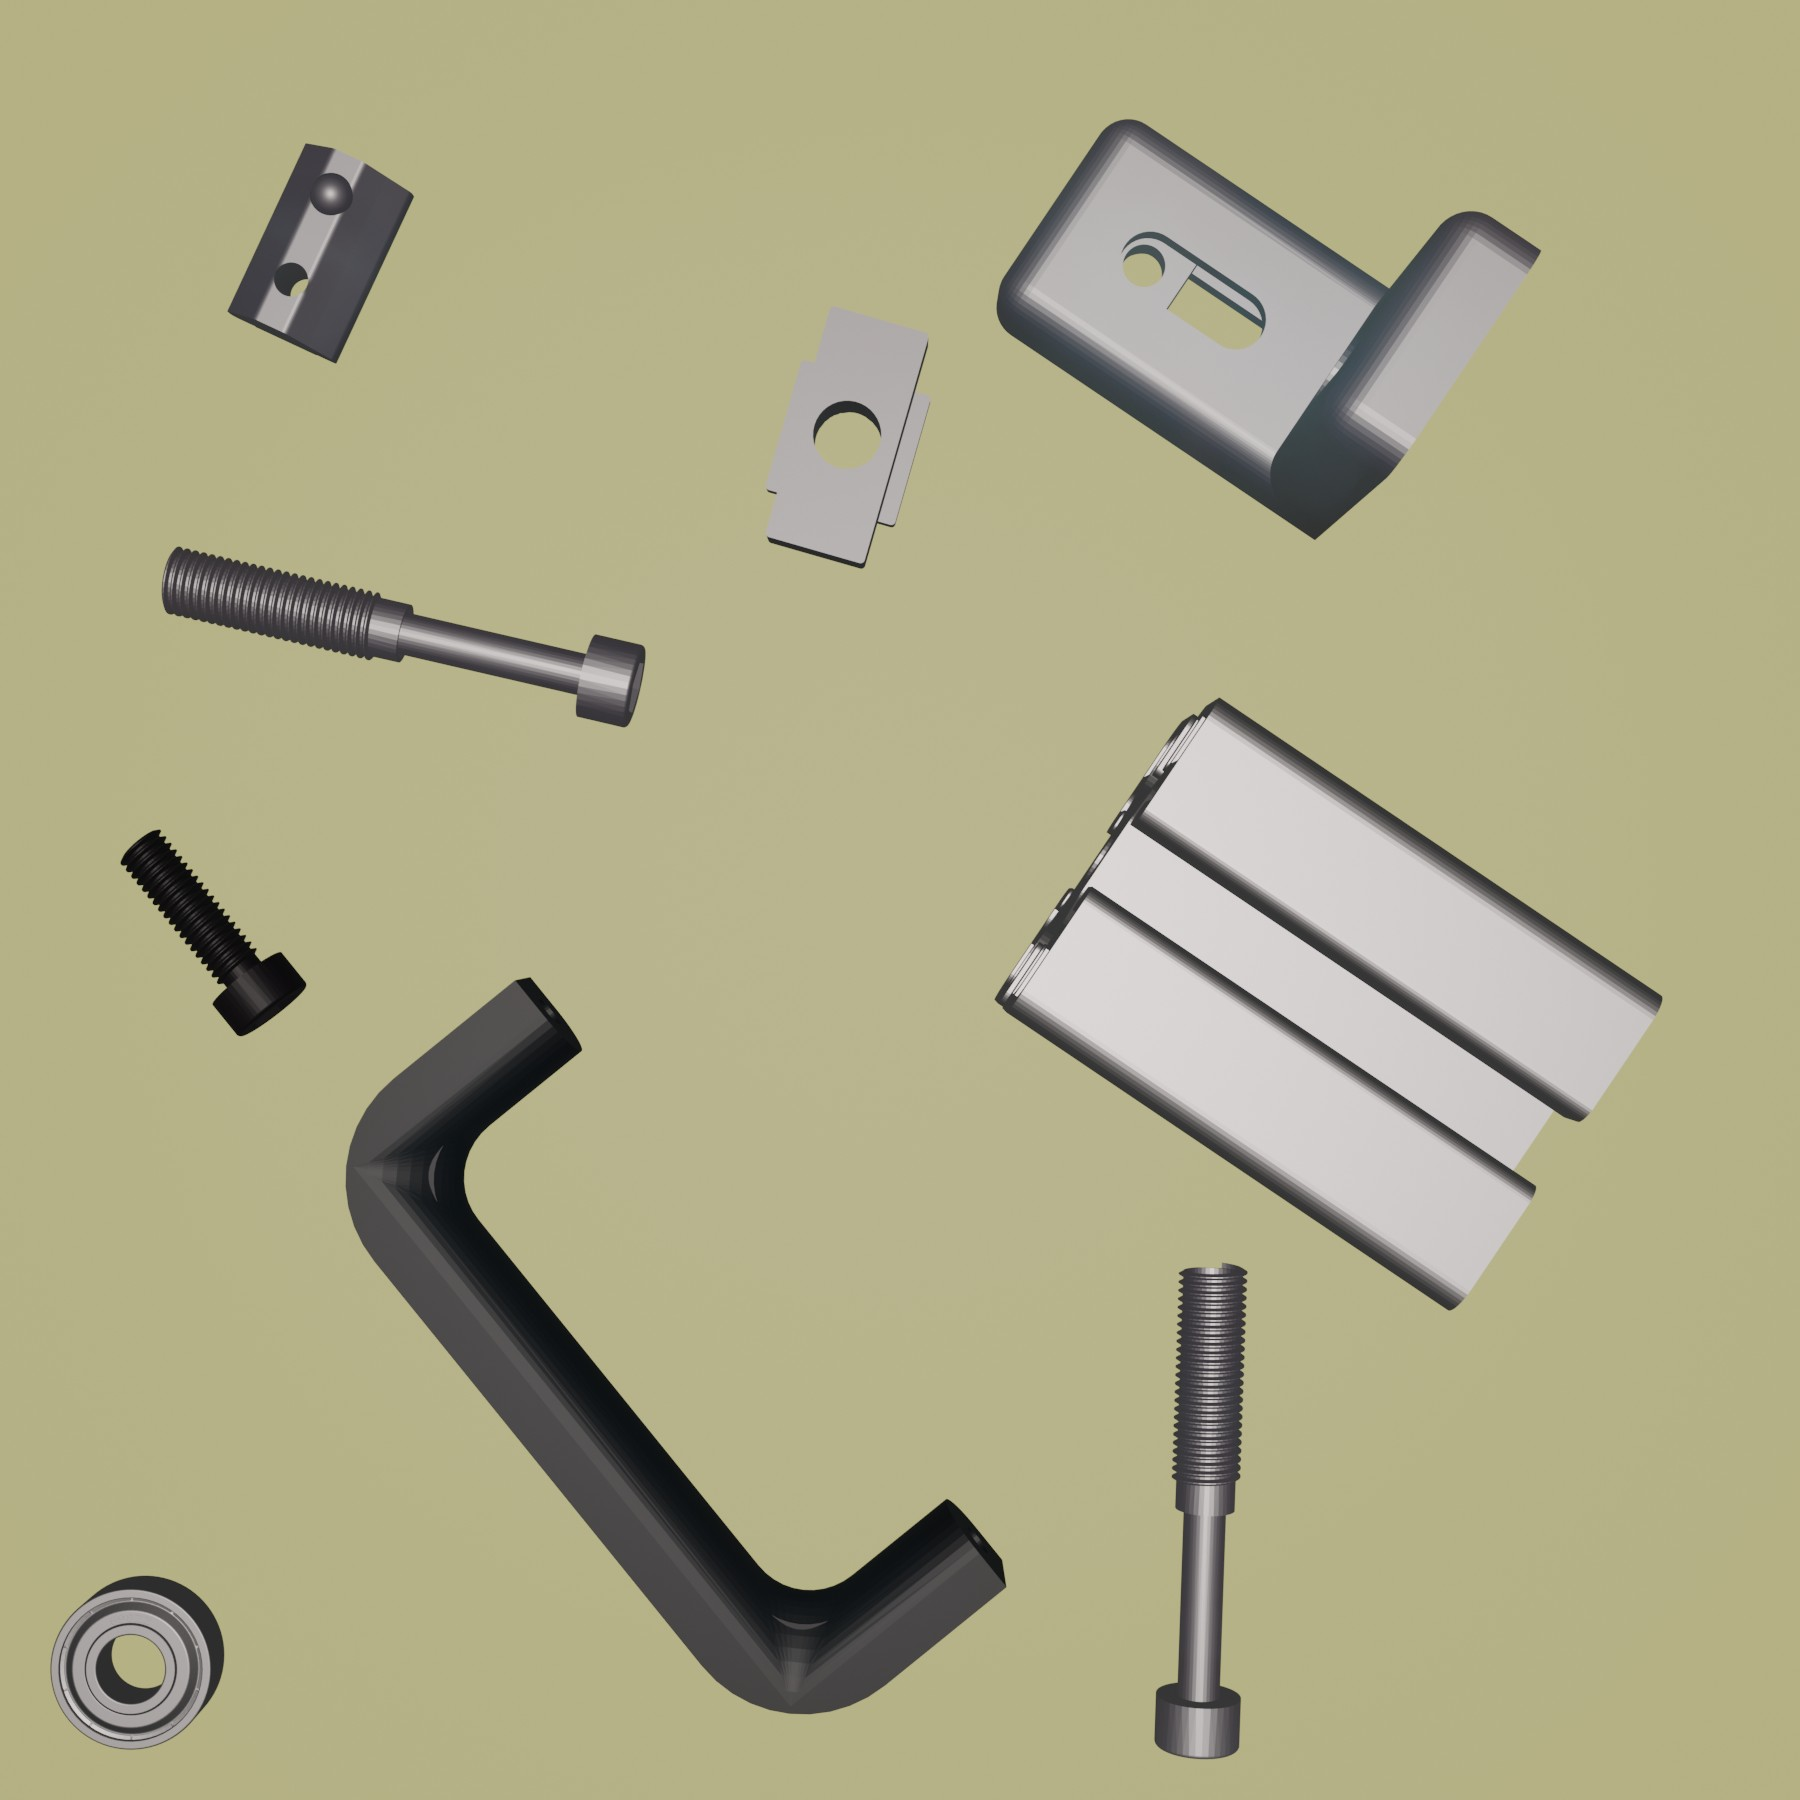Aluminium Extension: (991, 692, 1663, 1312)
Ball Bearing: (48, 1573, 227, 1752)
Multiwinkel: (994, 115, 1543, 542)
Pull Handle: (341, 973, 1009, 1716)
Shoulder Socket Head Cap Screw: (158, 542, 648, 730), (1152, 1258, 1251, 1762)
Socket Head Cap Screw: (117, 826, 308, 1037)
T Nut Square: (762, 303, 936, 572)
T Spring Nut: (224, 138, 415, 366)
